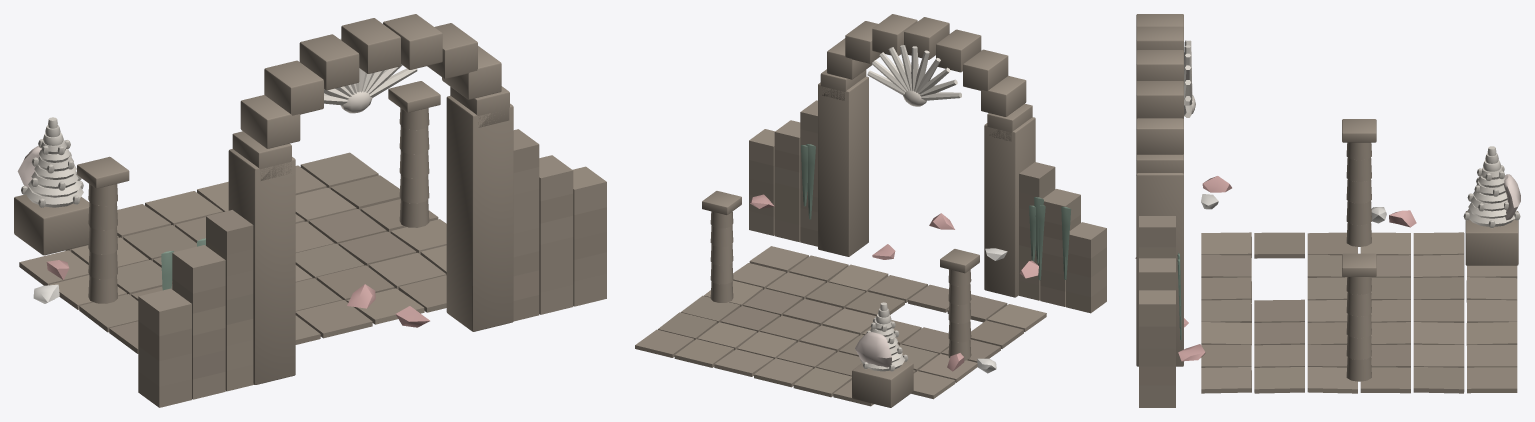
Rendered from sea_shrine.gltf.
The picture shows the model from 3 angles, left to right: view 1: azimuth 30°, elevation 25°; view 2: azimuth 150°, elevation 25°; view 3: azimuth 270°, elevation 25°; orthographic projection. The views are drawn at different scales.
Parts seen in each view (by area): view 1: Body; view 2: Body; view 3: Body.
Boxes of the visible parts, left/top/right/bottom form: Body: left=14, top=14, right=606, bottom=407; Body: left=635, top=14, right=1106, bottom=407; Body: left=1135, top=14, right=1520, bottom=407.
Bounding box in the file's own units: 17.25 × 11.73 × 14.53.
